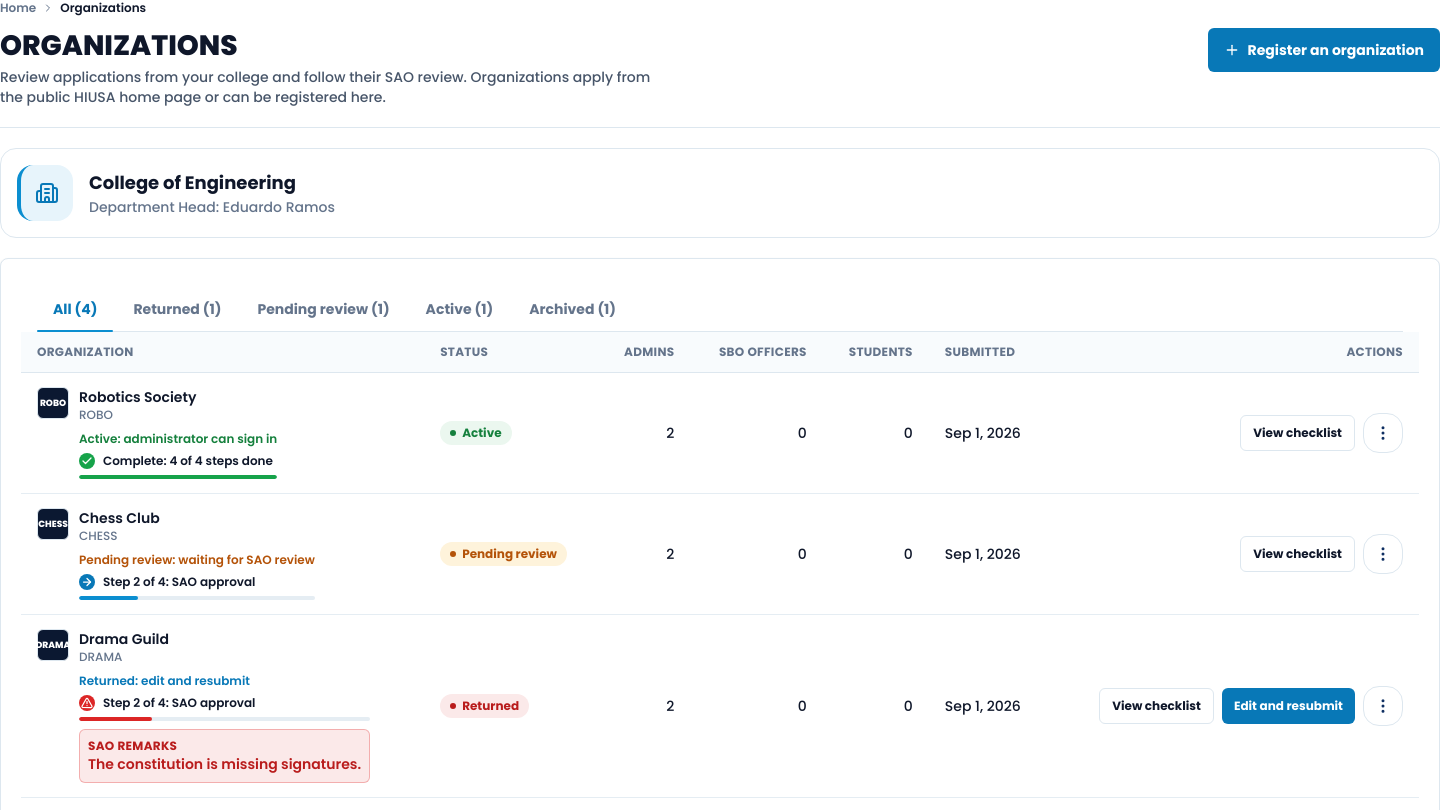
CollegeOrganizationsPage › focuses the first invalid field when the form is submitted incomplete
Step 1. Click the button named "Actions for Drama Guild" → (1383, 706), box x1=1363 y1=686 x2=1403 y2=726
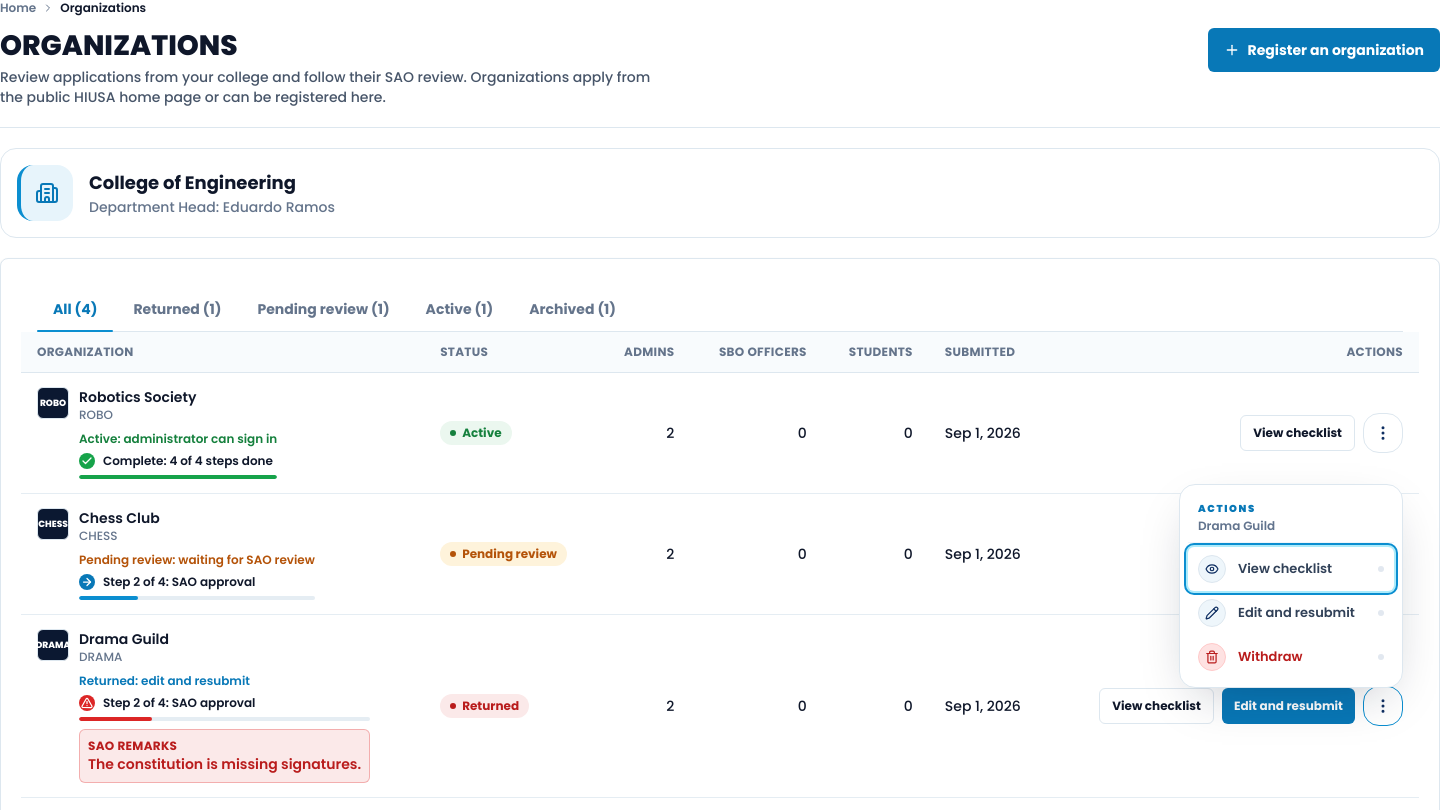
Step 2. Click the menu item "Edit and resubmit" → (1291, 613), box x1=1188 y1=591 x2=1394 y2=635
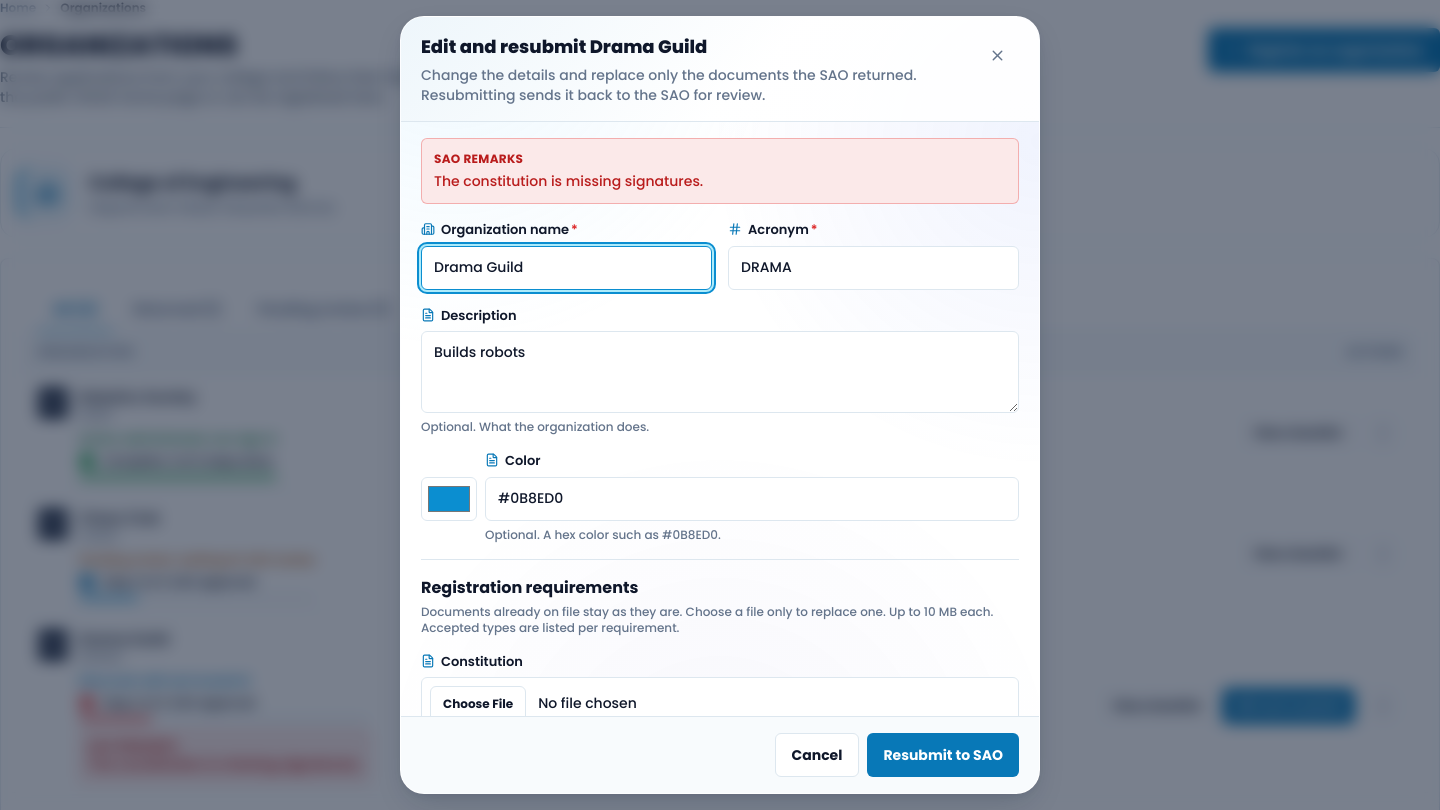
Step 3. Clear the field labelled "Organization name*" → (566, 268), box x1=421 y1=246 x2=712 y2=290
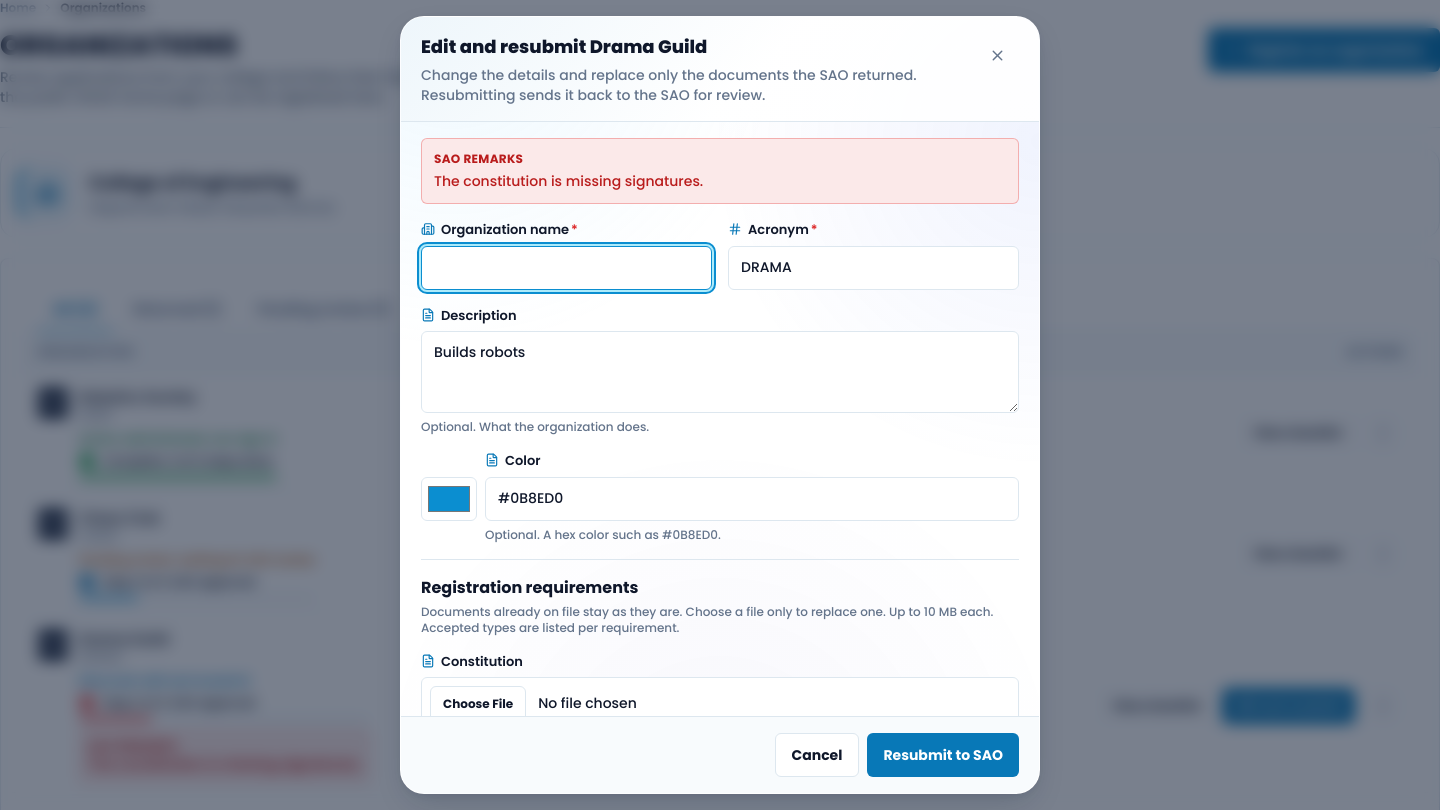
Step 4. Click the button "Resubmit to SAO" → (943, 755), box x1=867 y1=733 x2=1019 y2=777
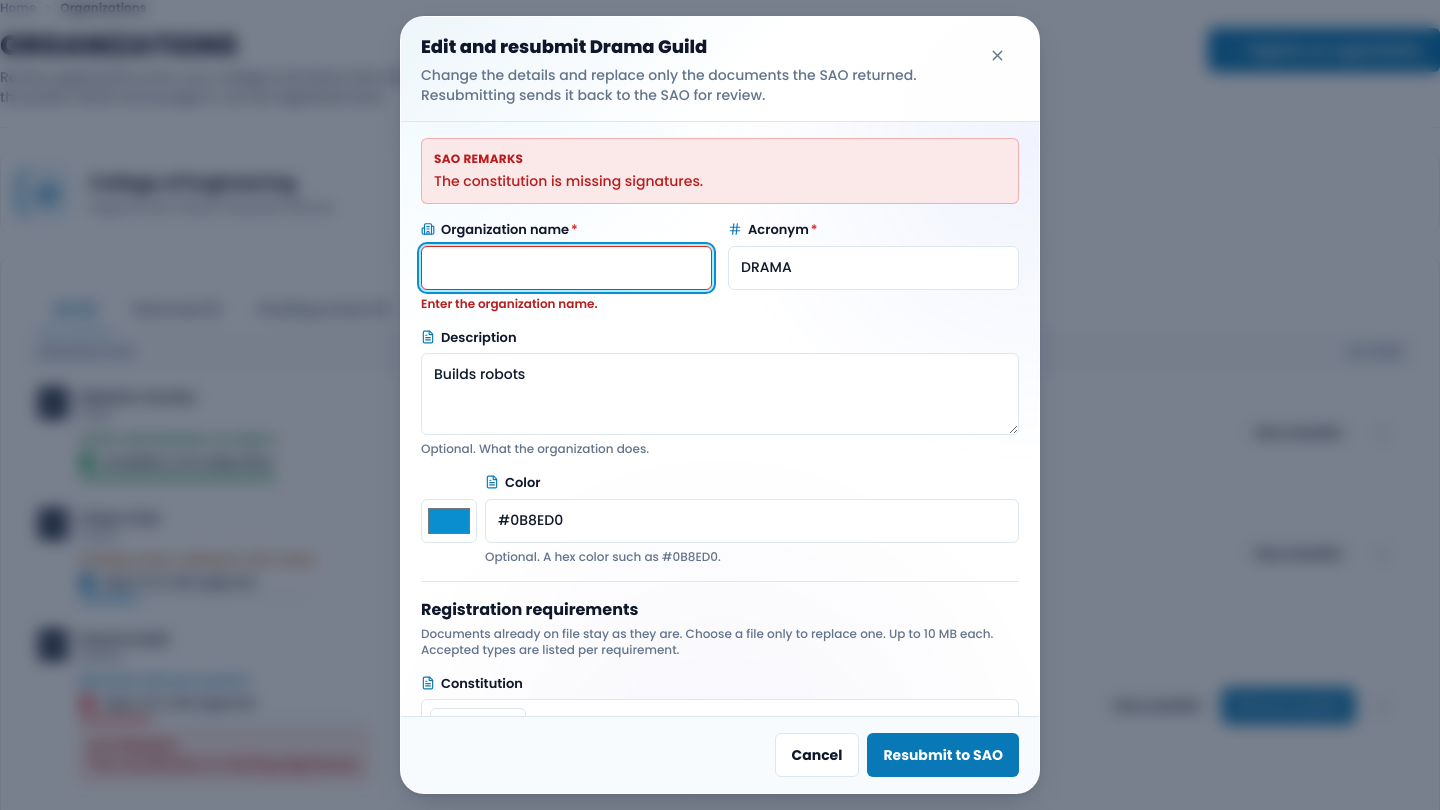
Expected: the text "Enter the organization name." is shown, x1=421 y1=294 x2=598 y2=312
